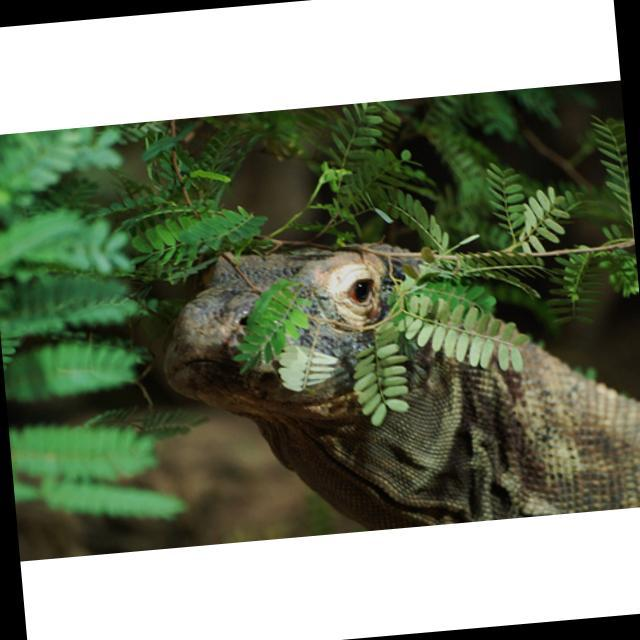KomodoDragon: (150, 212, 640, 544)
